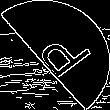P_SW: (22, 25, 88, 85)
